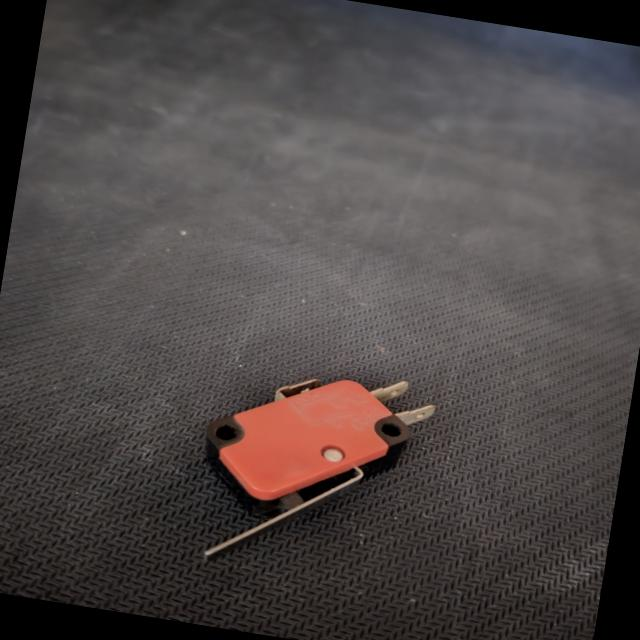switch: (170, 338, 450, 602)
